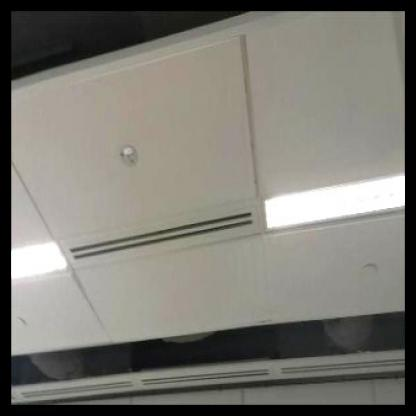light_on: (257, 160, 405, 240), (11, 229, 74, 291)
